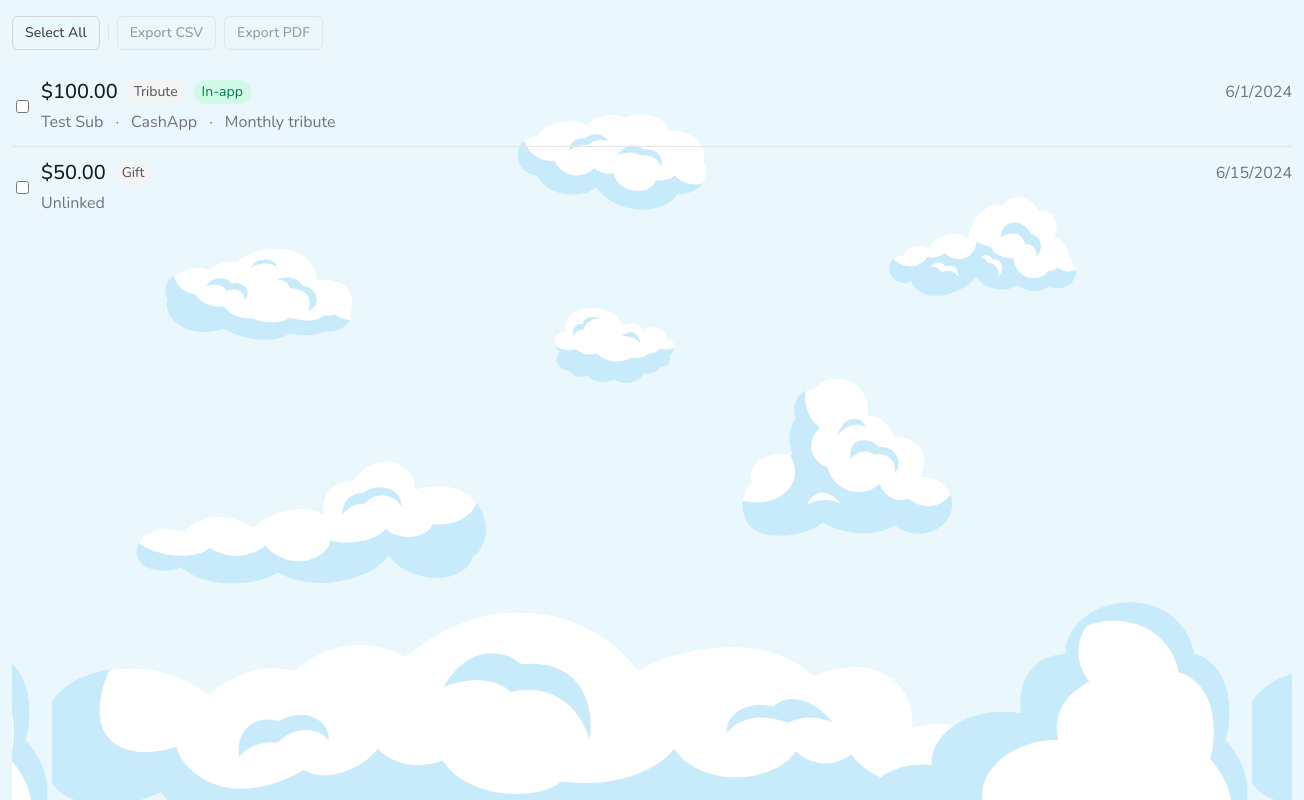
Test: FinancialsList › select all toggles all checkboxes
The width and height of the screenshot is (1304, 800).
Click the button "Select All". click: x=56, y=33
box: left=12, top=16, right=100, bottom=50
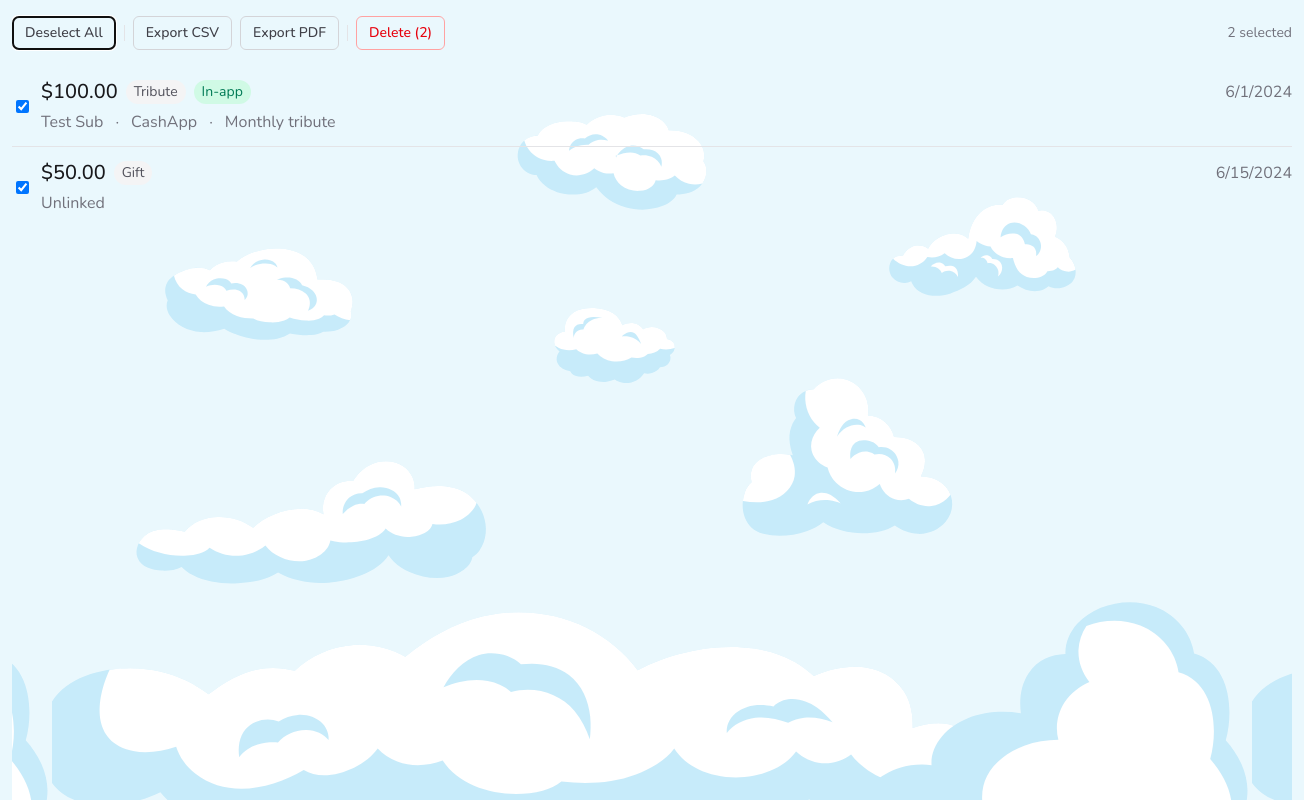
Check: the text "2 selected" is shown, box left=1227, top=23, right=1292, bottom=43
Check: the button "Deselect All" is shown, box left=12, top=16, right=116, bottom=50
